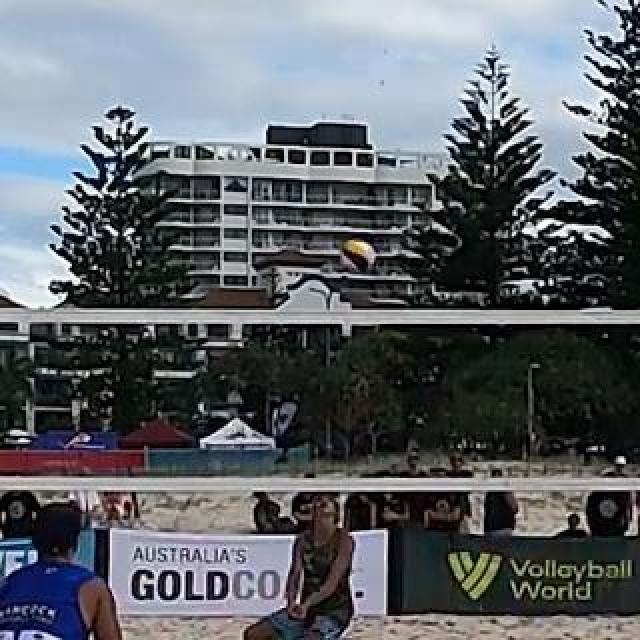volleyball: (341, 238, 375, 272)
